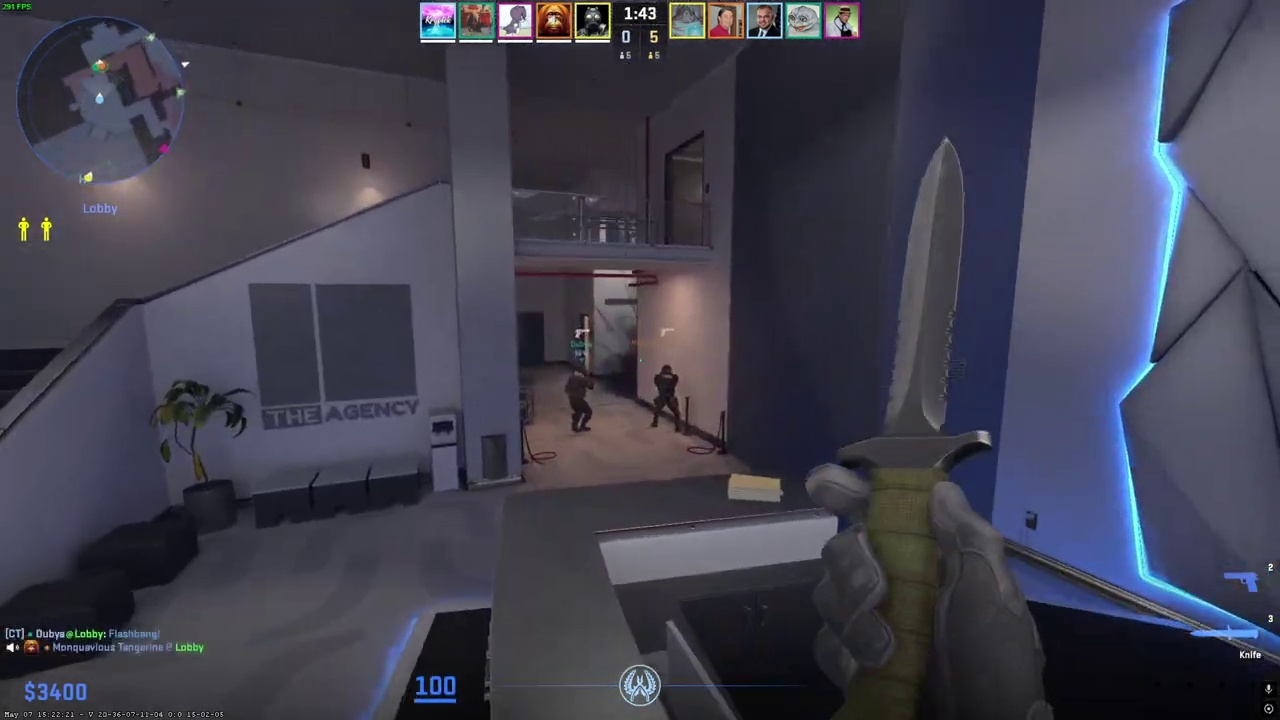CT: (649, 364, 683, 429), (567, 367, 594, 433)
